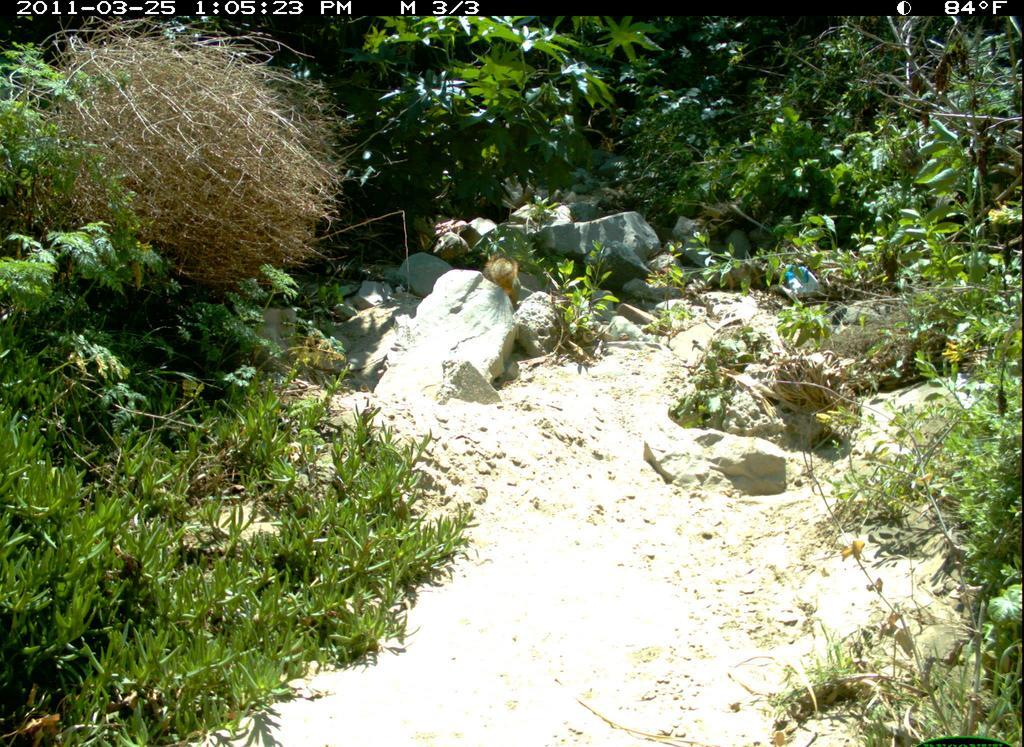squirrel: (472, 244, 529, 301)
